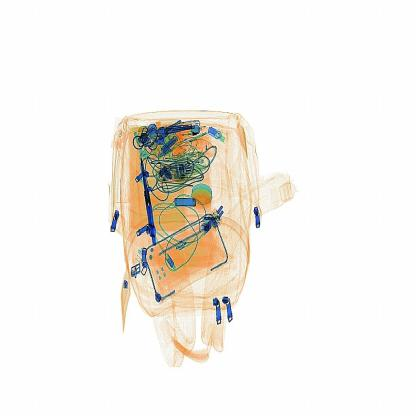gun: (136, 151, 164, 252)
